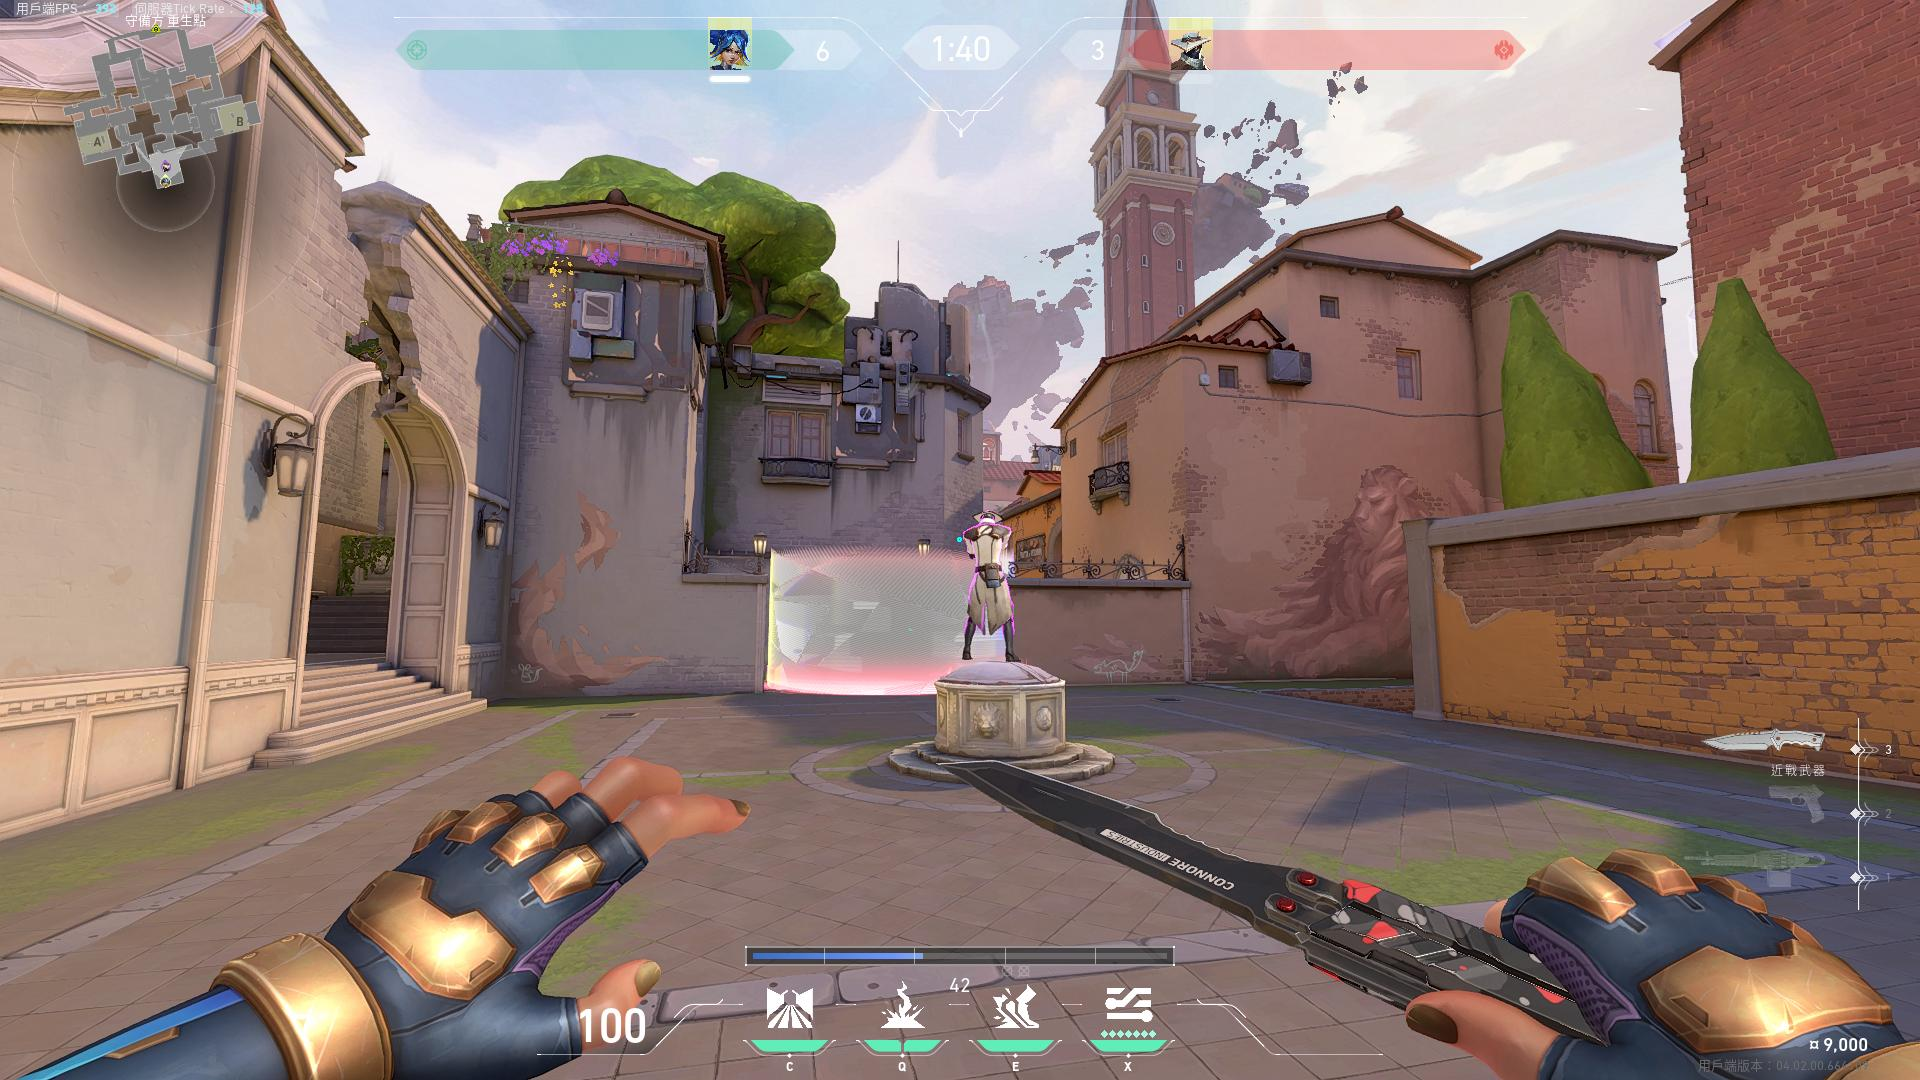enemyBody: (972, 527, 1004, 567)
enemyHead: (981, 513, 996, 524)
